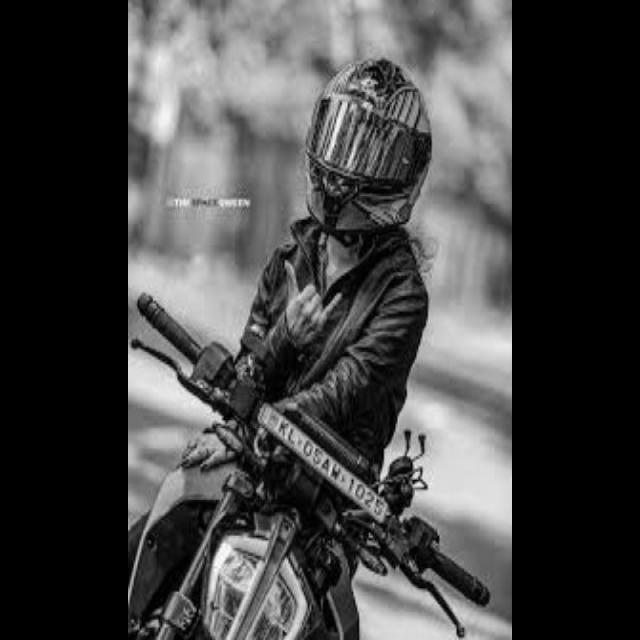5_casco: (302, 53, 436, 243)
